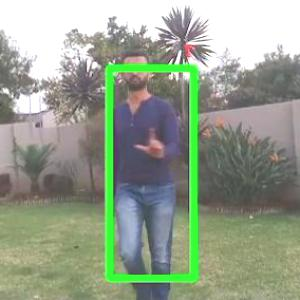land_hand: (133, 118, 172, 164)
